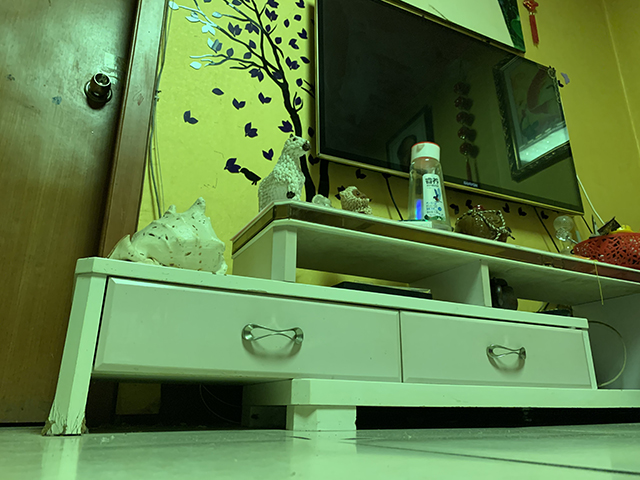cabinet: (46, 202, 640, 436)
